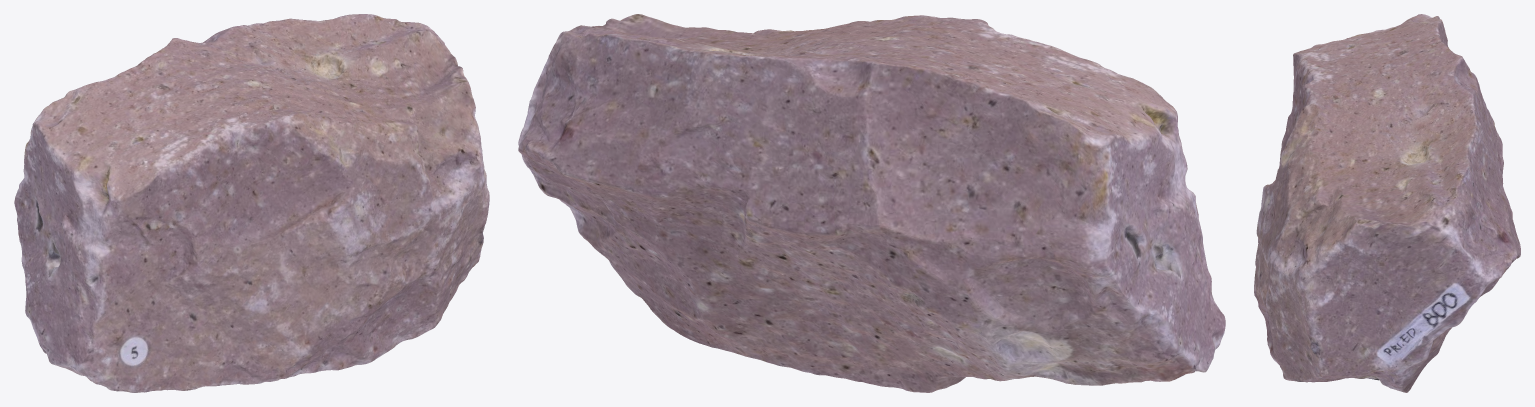
Rendered from rhyolite.glb.
The picture shows the model from 3 angles, left to right: view 1: azimuth 30°, elevation 25°; view 2: azimuth 150°, elevation 25°; view 3: azimuth 270°, elevation 25°; orthographic projection. The views are drawn at different scales.
Parts seen in each view (by area): view 1: Object_2; view 2: Object_2; view 3: Object_2.
Boxes of the visible parts, x1,y1,x2,y2 form: Object_2: (14, 14, 489, 392); Object_2: (518, 14, 1225, 392); Object_2: (1254, 14, 1520, 392).
Size of the model in its own units: 0.1 by 0.0602 by 0.0549.
Materials: 1 (1 with a texture image).
